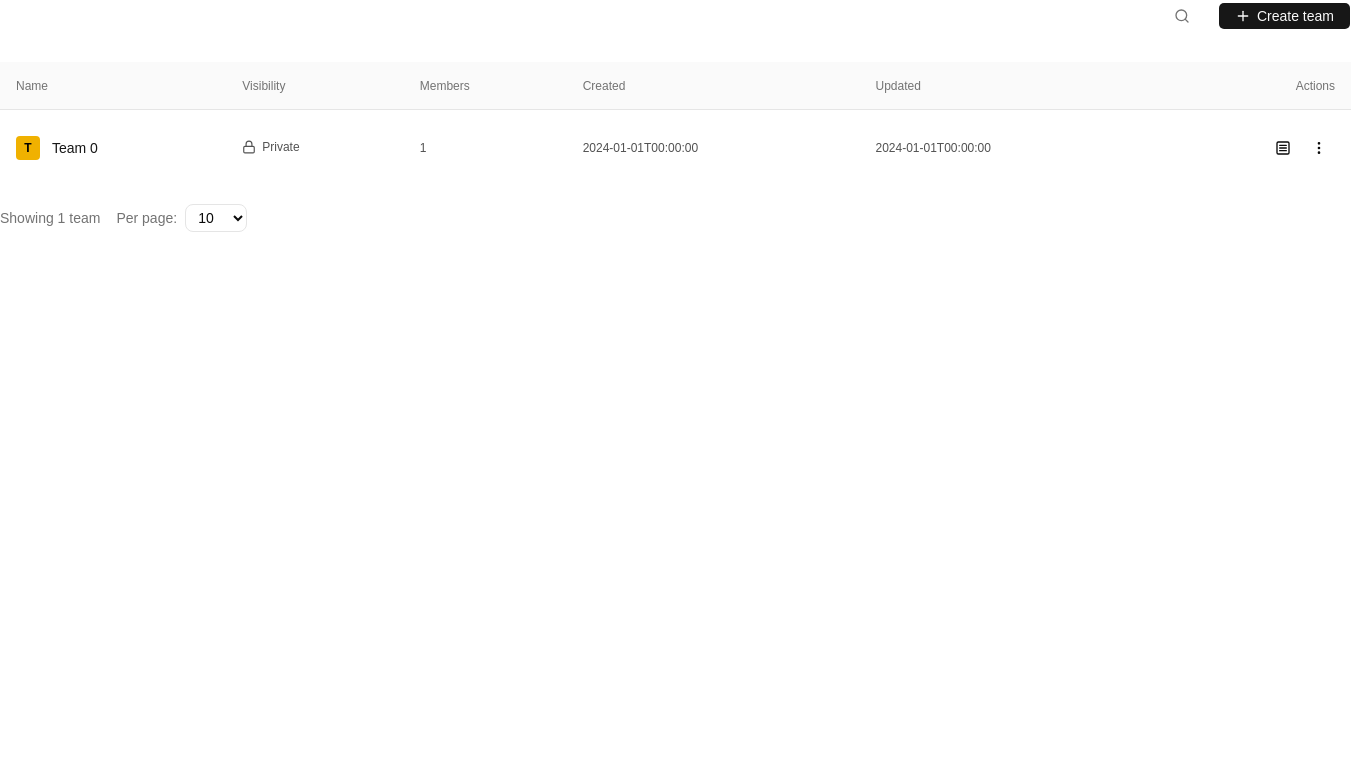
Scenario: Teams › optimistically removes team from list immediately on delete confirmation
Expected: the text "Team 0" is shown, [52, 138, 98, 158]
Click the button named "Actions for Team 0" at (1319, 148), box [1303, 132, 1335, 164]
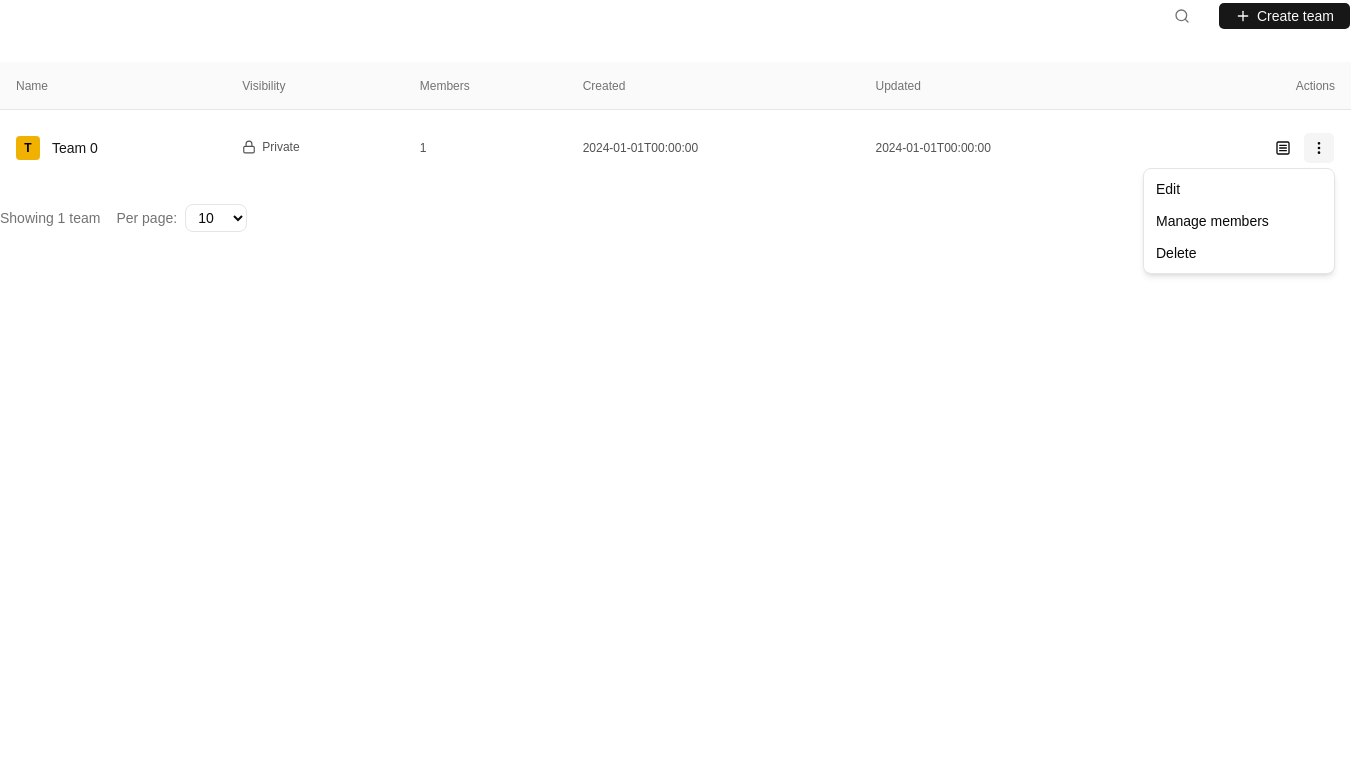
Click the menu item "Delete" at (1176, 253), box [1156, 245, 1196, 261]
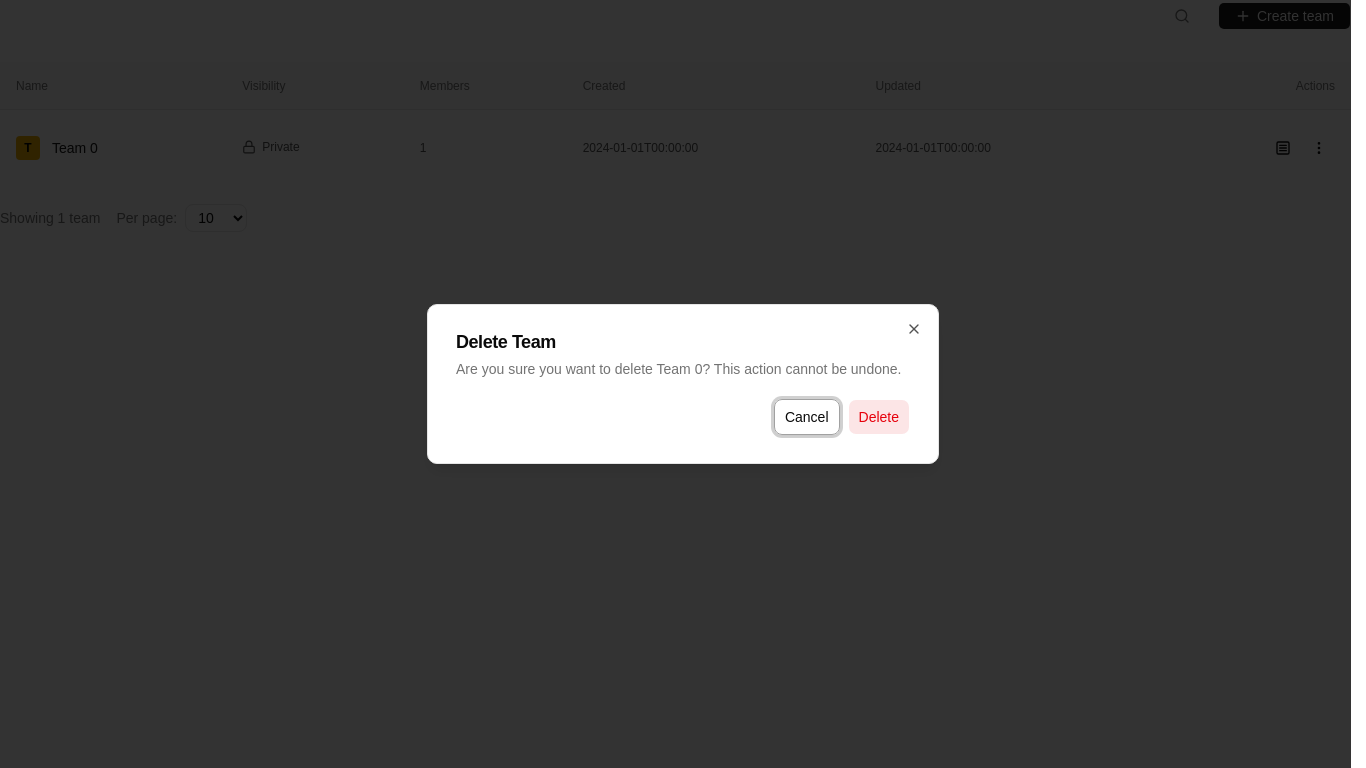
Click the button "Delete" at (879, 417), box [848, 399, 910, 435]
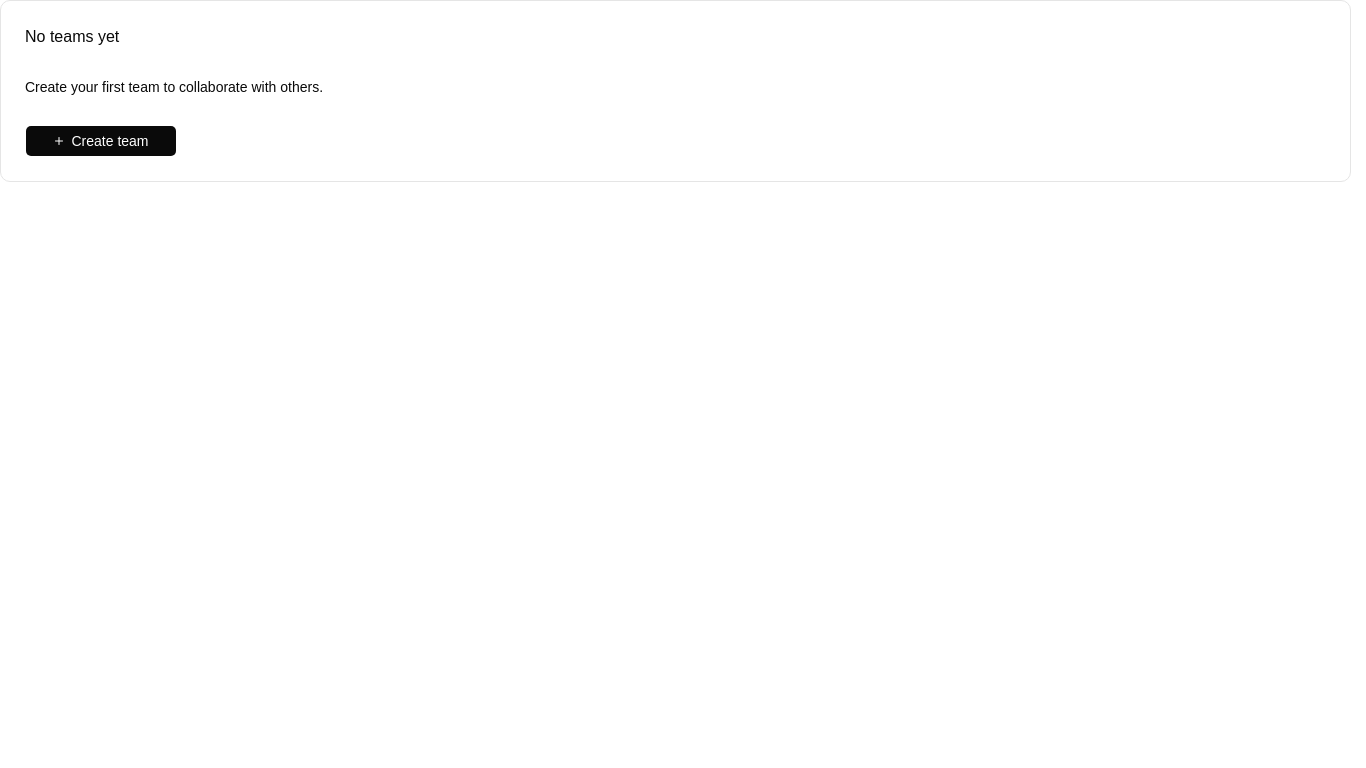
Result: the text "Team 0" is gone
Result: the heading "Delete" is gone
